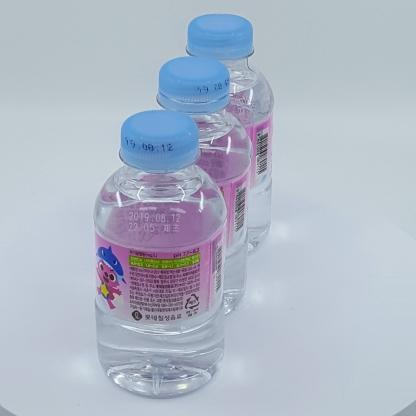------200ML: (92, 109, 227, 400)
